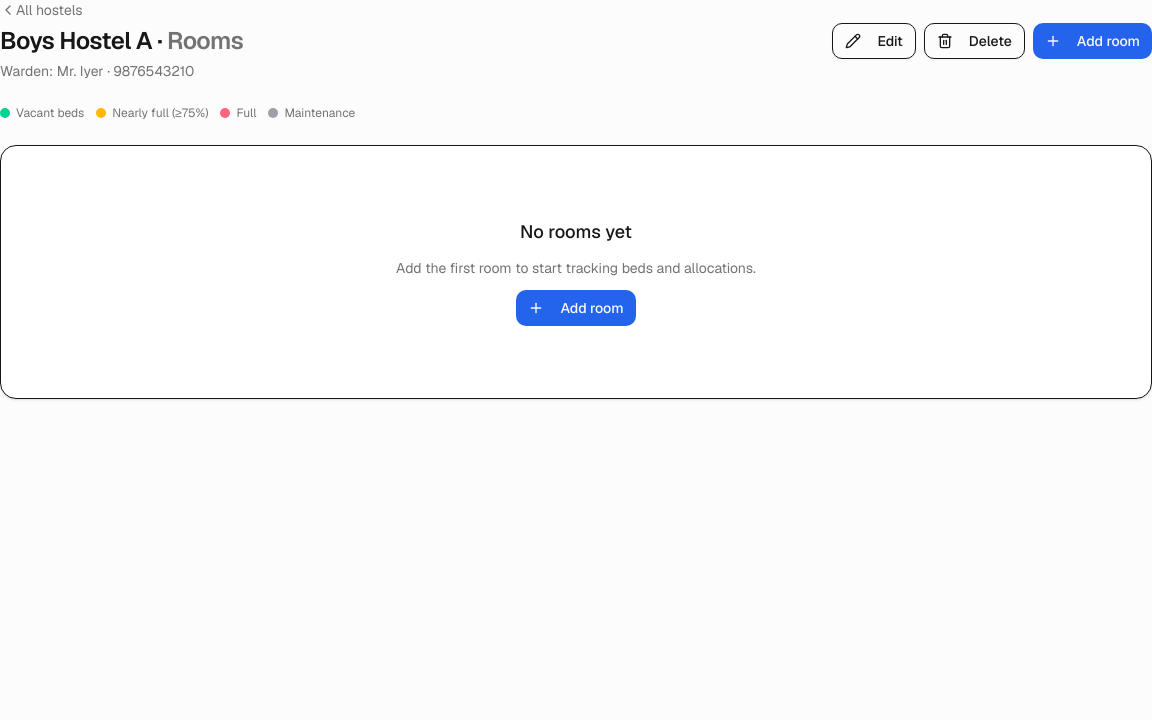
hostel edit entry point › opens the dialog in edit mode, populated with the hostel's details
Expected: the heading "Boys Hostel A · Rooms" is shown, [0, 25, 243, 57]
Click the button "Edit" at coordinates (874, 40), box [832, 22, 916, 58]
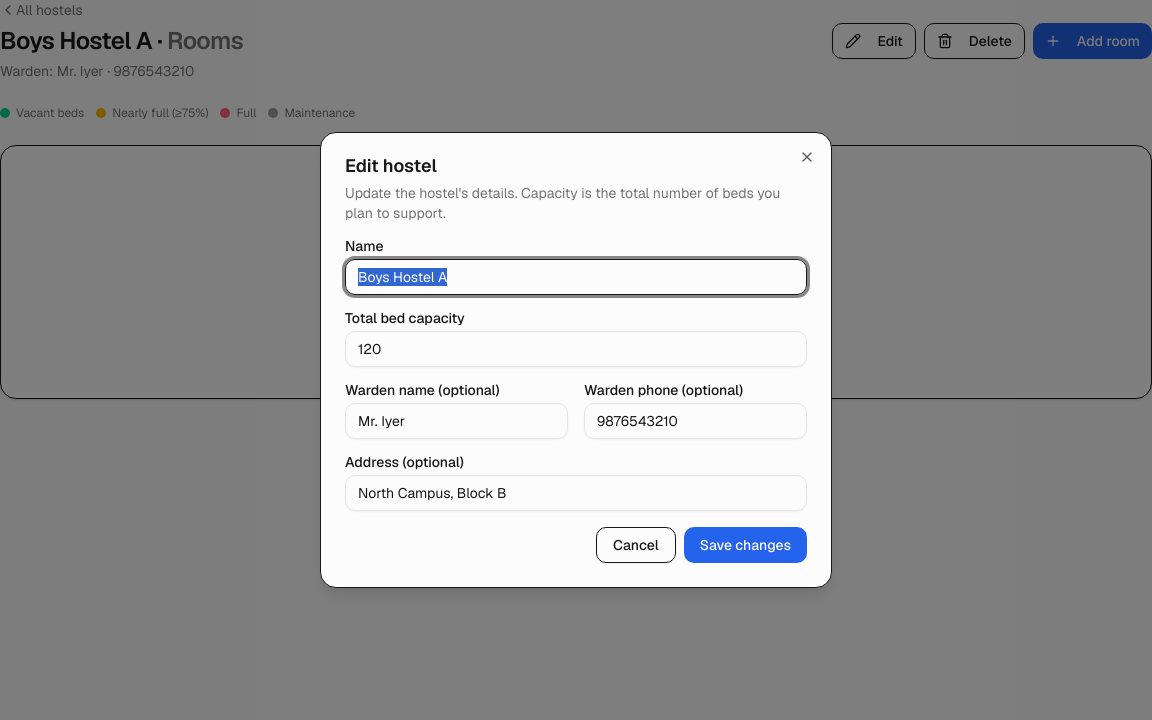
Expected: the heading "Edit hostel" is shown, [345, 154, 437, 177]
Expected: the button "Save changes" is shown, [684, 527, 807, 563]
Expected: the field labelled "Name" holds "Boys Hostel A", [345, 259, 807, 295]
